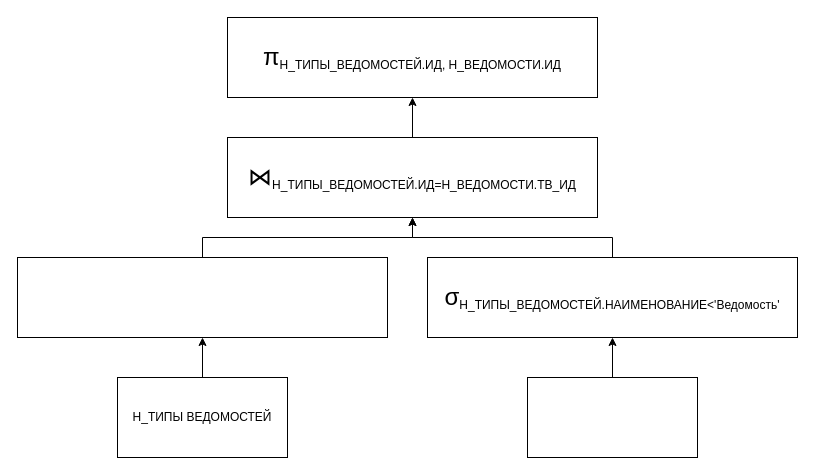
The diagram is 815 pixels wide and 475 high, and some of its shapes have lost their labels. Each missing label, with the centre of its shape:
σ Н_ВЕДОМОСТИ.ДАТА='2022-06-08': (202,297)
Н_ВЕДОМОСТИ: (612,417)
